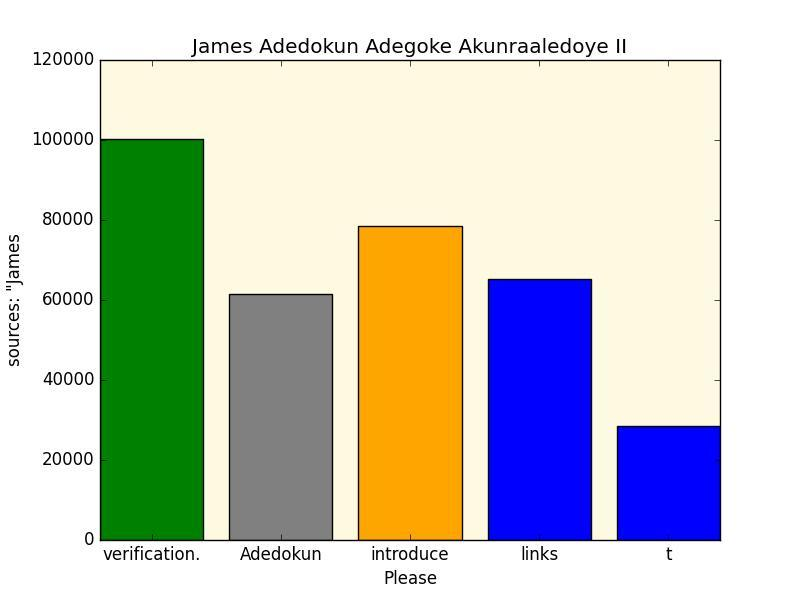axis: (8, 52, 94, 548)
rectangle: (100, 139, 203, 540), (358, 226, 461, 540), (488, 279, 590, 540), (230, 294, 332, 540), (617, 426, 720, 540)
